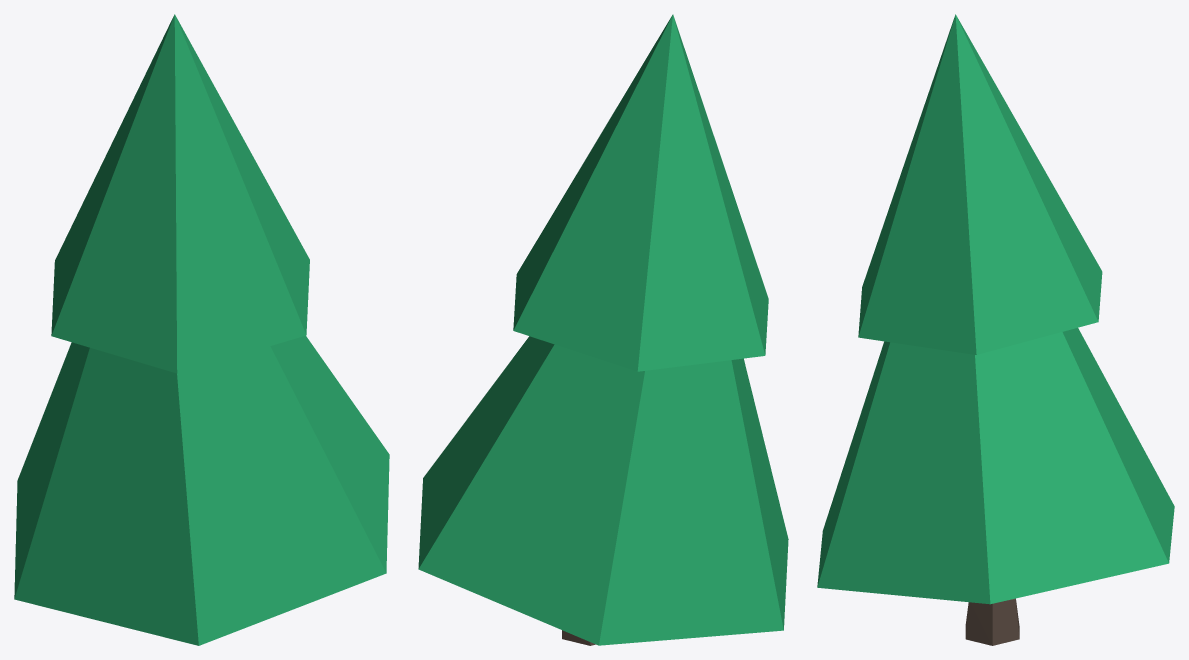
The model's file is Tree_Pine_04.FBX.
3 views of the same model, side by side, from view 1: azimuth 30°, elevation 25°; view 2: azimuth 150°, elevation 25°; view 3: azimuth 270°, elevation 25° (orthographic). The views are drawn at different scales.
Visible parts, largest first — view 1: Tree_Pine_04; view 2: Tree_Pine_04; view 3: Tree_Pine_04.
Part boxes in pixels (x1,y1,x2,y2): Tree_Pine_04: (14,14,389,645); Tree_Pine_04: (418,14,788,645); Tree_Pine_04: (817,14,1174,645).
Bounding box in the file's own units: 7584 × 12242 × 6729.
